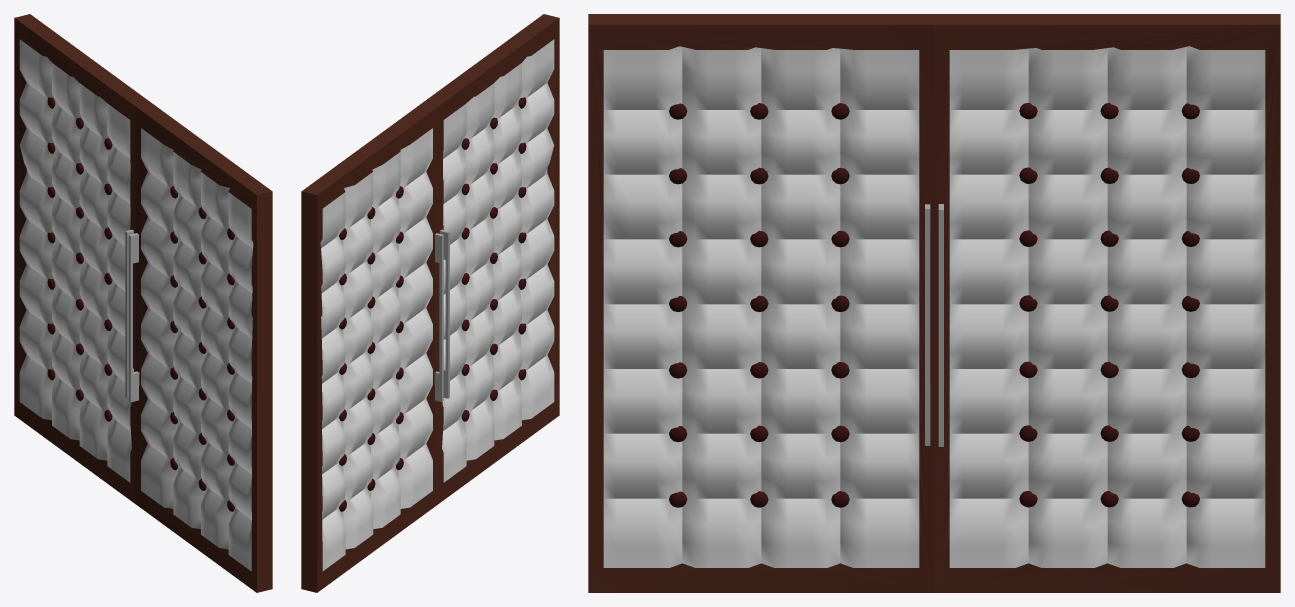
Rendered from Fancy Double Door.fbx.
3 renders of one model, left to right at view 1: azimuth 30°, elevation 25°; view 2: azimuth 150°, elevation 25°; view 3: azimuth 270°, elevation 25°, orthographic. The views are drawn at different scales.
Visible parts, largest first — view 1: Fancy Double Door; view 2: Fancy Double Door; view 3: Fancy Double Door.
Part boxes in pixels (x1=…): Fancy Double Door: x1=14, y1=14, x2=272, y2=592; Fancy Double Door: x1=301, y1=14, x2=559, y2=592; Fancy Double Door: x1=588, y1=14, x2=1280, y2=592.
Size of the model in its own units: 30.85 by 362 by 400.
